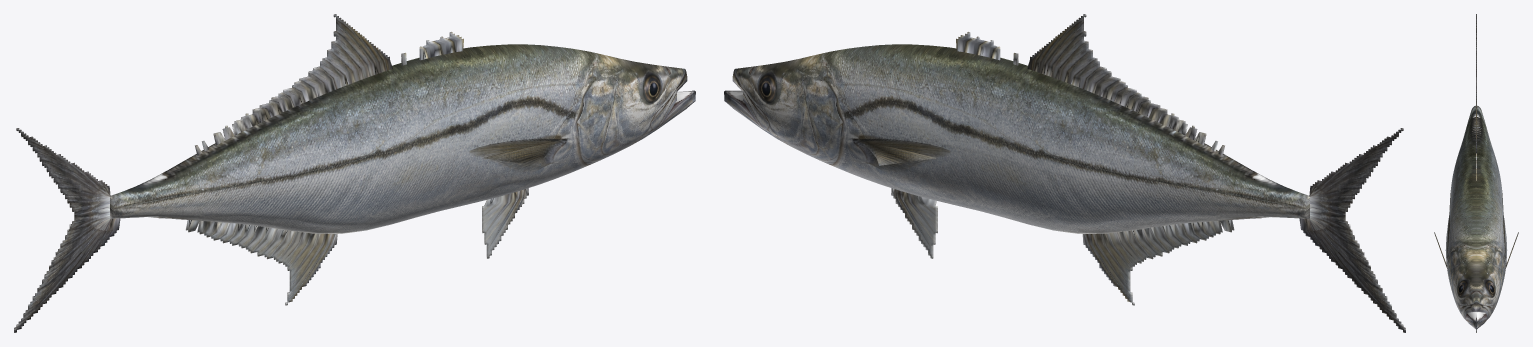
Rendered from leervis.glb.
3 renders of one model, left to right at view 1: azimuth 30°, elevation 25°; view 2: azimuth 150°, elevation 25°; view 3: azimuth 270°, elevation 25°, orthographic. The views are drawn at different scales.
Visible parts, largest first — view 1: leervis_realistic; view 2: leervis_realistic; view 3: leervis_realistic.
Part boxes in pixels (x1,y1,x2,y2): leervis_realistic: [14, 14, 695, 332]; leervis_realistic: [724, 14, 1405, 332]; leervis_realistic: [1434, 14, 1518, 332].
Bounding box in the file's own units: 1 × 0.3946 × 0.161.
Materials: 3 (3 with a texture image).
